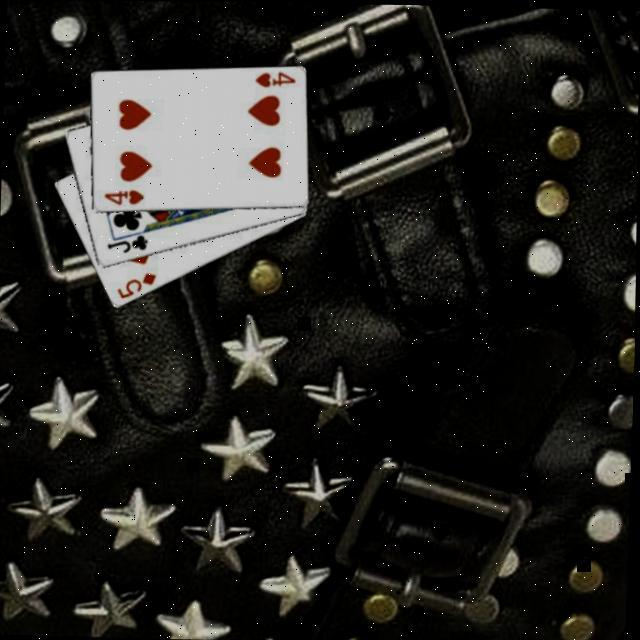4H: (249, 69, 295, 92), (99, 188, 144, 210)
5D: (112, 271, 157, 304)
JC: (103, 233, 149, 258)
